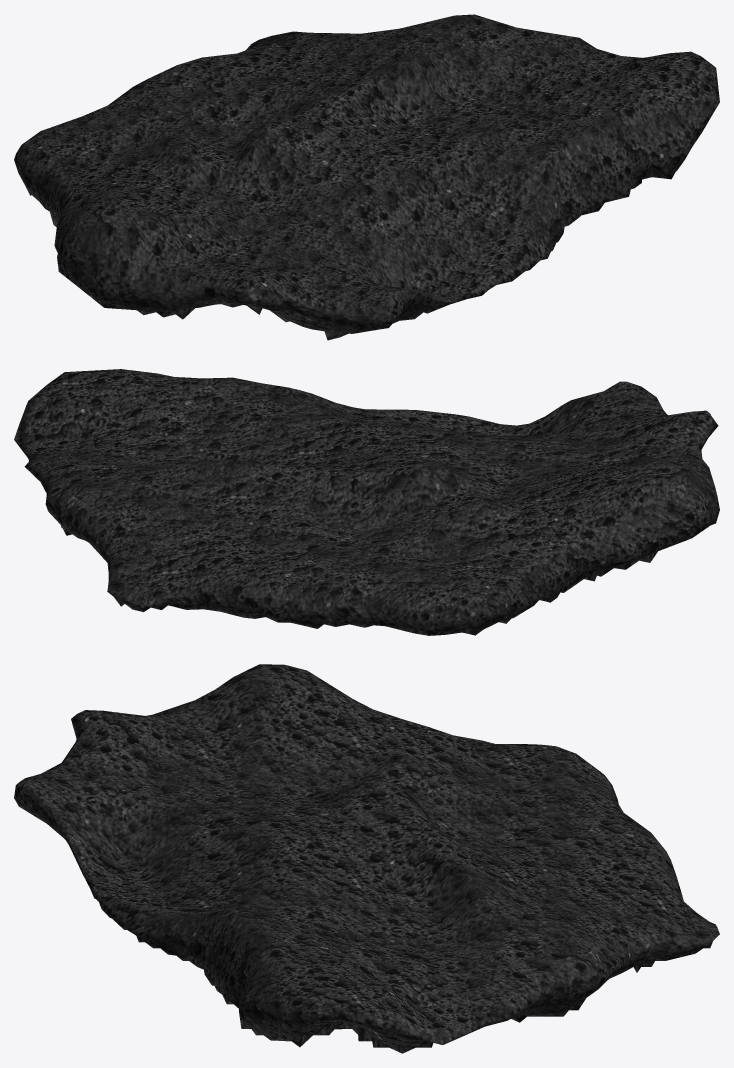
Rendered from ArtistFlatVolcanicRock02.fbx.
The picture shows the model from 3 angles, top to bottom: view 1: azimuth 30°, elevation 25°; view 2: azimuth 150°, elevation 25°; view 3: azimuth 270°, elevation 25°; orthographic projection. The views are drawn at different scales.
Visible parts, largest first — view 1: ArtistFlatVolcanicRock02_LOD0; view 2: ArtistFlatVolcanicRock02_LOD0; view 3: ArtistFlatVolcanicRock02_LOD0.
Part boxes in pixels (x1,y1,x2,y2): ArtistFlatVolcanicRock02_LOD0: [14, 14, 719, 340]; ArtistFlatVolcanicRock02_LOD0: [14, 369, 719, 635]; ArtistFlatVolcanicRock02_LOD0: [14, 664, 719, 1053].
Size of what is drawn, in the model's own units: 3.31 by 0.4033 by 2.89.
1 material, 1 textured.
